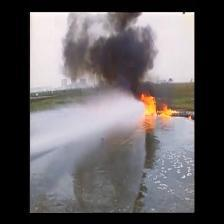fire: (137, 90, 168, 119)
